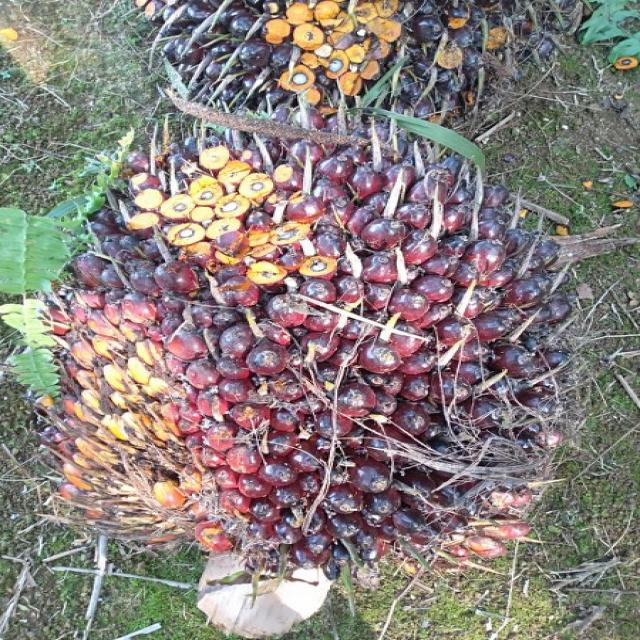fraksi 1: (9, 85, 631, 640)
